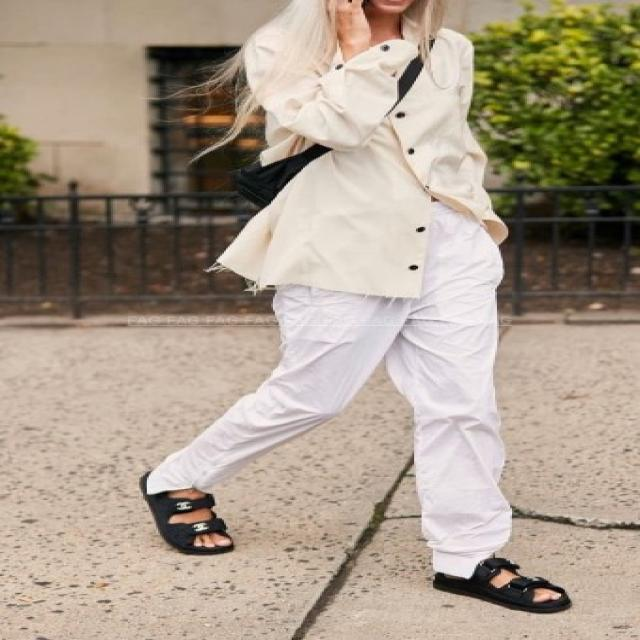no-boots: (408, 548, 595, 638), (120, 468, 260, 584)
